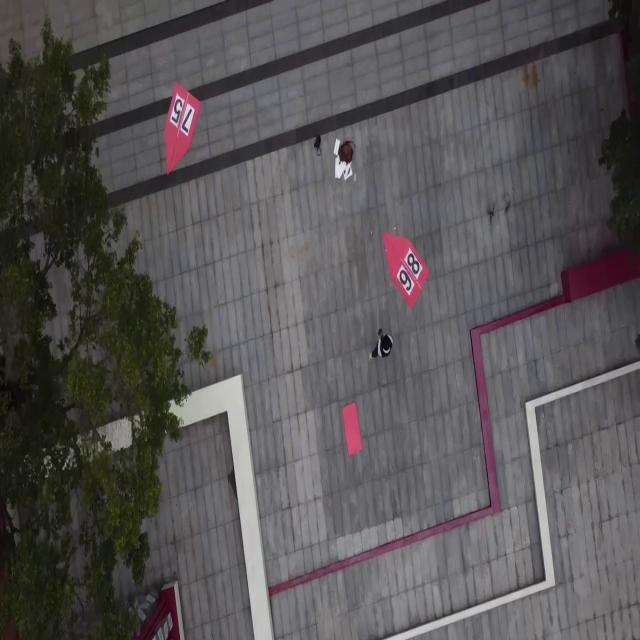-sign-: (159, 80, 203, 186), (382, 230, 430, 310)
